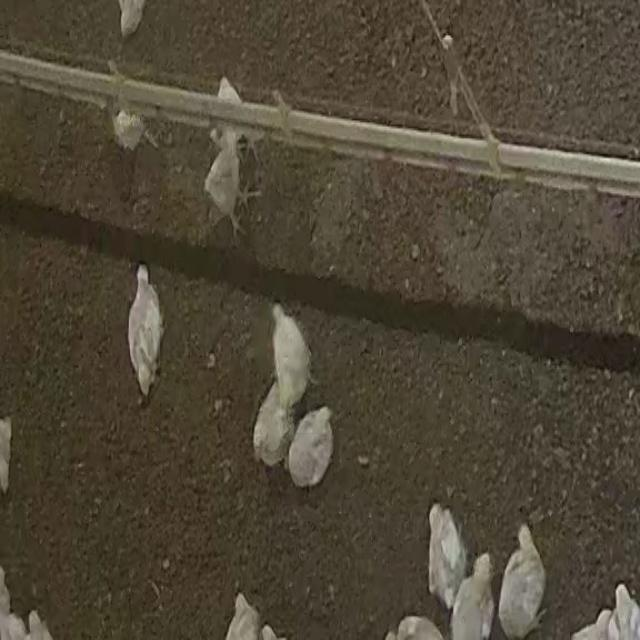chicken: (493, 517, 546, 640), (125, 264, 168, 401), (265, 303, 315, 406), (446, 540, 496, 640), (284, 397, 336, 488), (422, 504, 467, 608), (198, 148, 250, 226), (249, 378, 291, 472), (219, 587, 267, 640), (102, 107, 155, 155), (210, 75, 242, 149), (606, 584, 640, 640)
